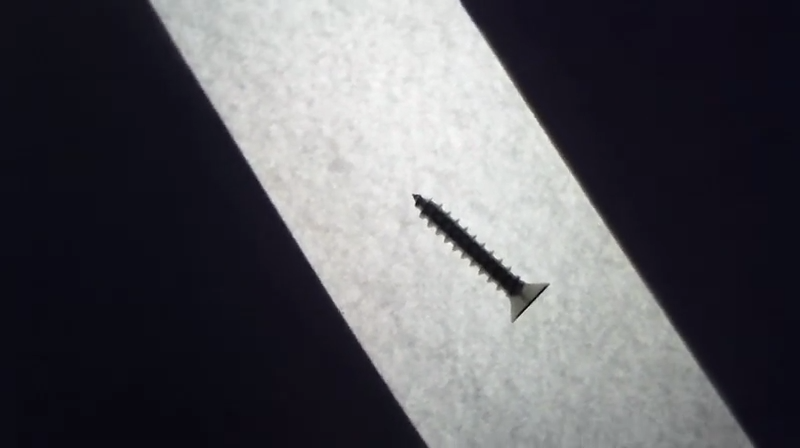S001: (406, 188, 556, 325)
